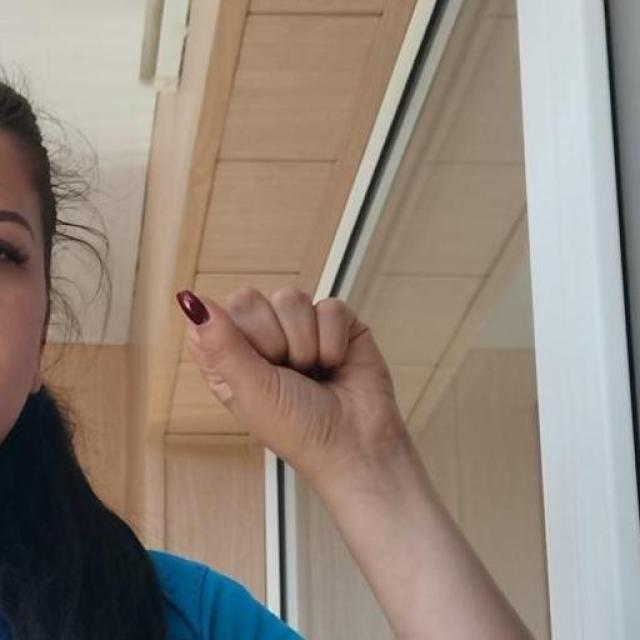hand: (174, 281, 418, 491)
